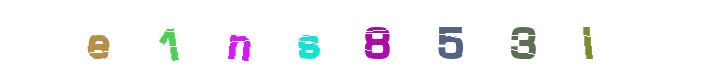1: (209, 0, 289, 80)
3: (337, 0, 417, 80)
5: (320, 0, 400, 80)
8: (303, 0, 383, 80)
E: (130, 0, 210, 80)
L: (446, 0, 526, 80)
N: (240, 0, 320, 80)
S: (268, 0, 348, 80)
